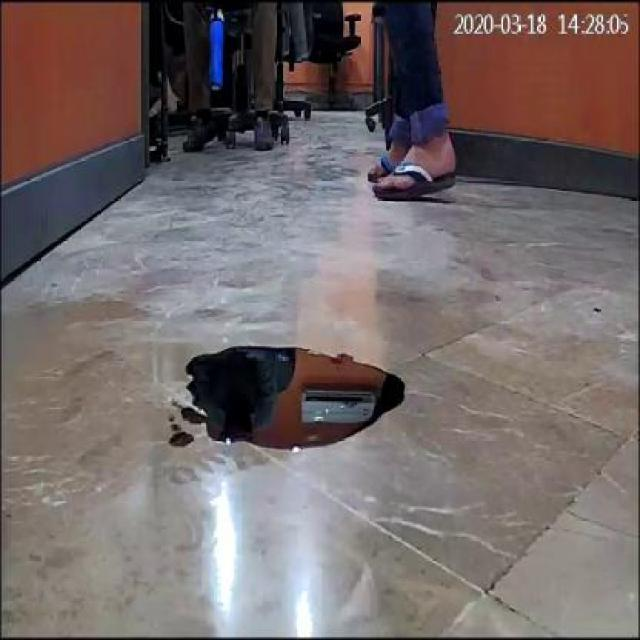spill: (181, 345, 407, 450)
